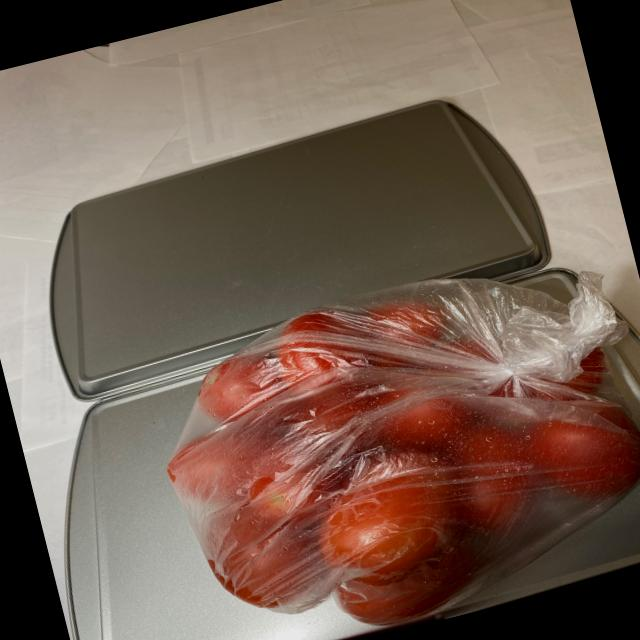tomato: (139, 246, 640, 640)
